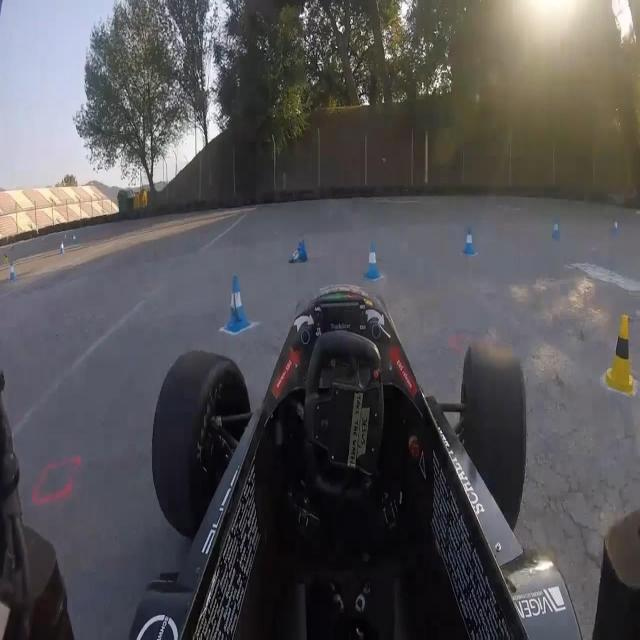blue_cone: (221, 275, 251, 334), (365, 241, 382, 283), (284, 239, 308, 264), (461, 225, 475, 257), (551, 219, 561, 244), (8, 260, 17, 284), (611, 219, 619, 236), (60, 242, 65, 254)
yellow_cone: (605, 315, 635, 393)
